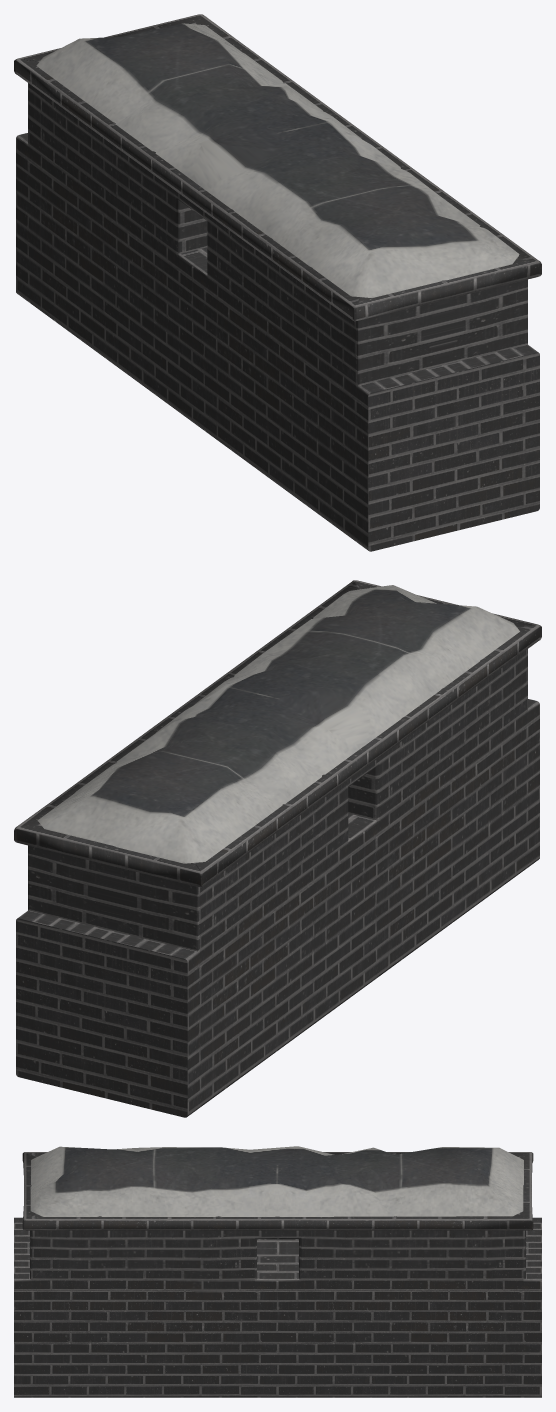
The model's file is SM_GH_Parapet_001.fbx.
The picture shows the model from 3 angles, top to bottom: view 1: azimuth 30°, elevation 25°; view 2: azimuth 150°, elevation 25°; view 3: azimuth 270°, elevation 25°; orthographic projection. The views are drawn at different scales.
Parts seen in each view (by area): view 1: SM_GH_Parapet_001; view 2: SM_GH_Parapet_001; view 3: SM_GH_Parapet_001.
Part boxes in pixels (x1,y1,x2,y2): SM_GH_Parapet_001: [14, 14, 541, 551]; SM_GH_Parapet_001: [14, 580, 541, 1117]; SM_GH_Parapet_001: [14, 1146, 541, 1397].
Size of the model in its own units: 117 by 379 by 160.
2 materials, 2 textured.
